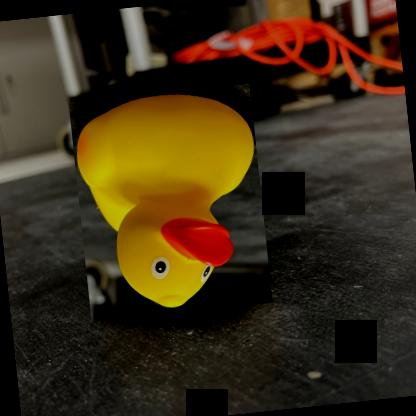duck: (68, 83, 272, 321)
